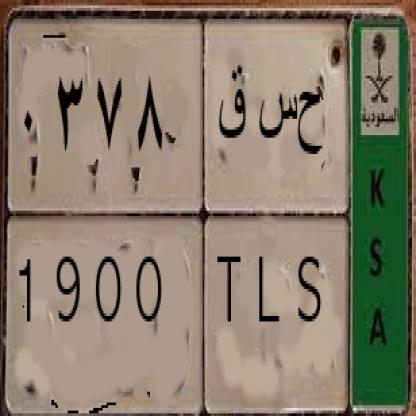english: (6, 201, 355, 405)
